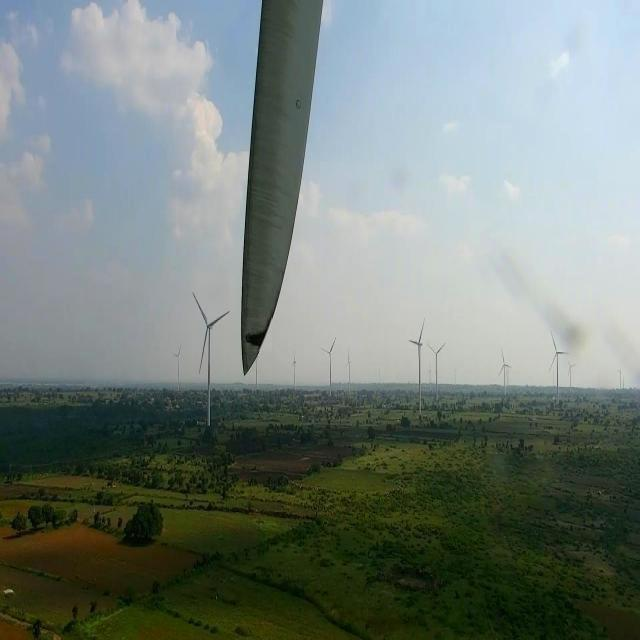Pin_Hole: (291, 96, 307, 115)
oil_leakage: (245, 319, 272, 351)
